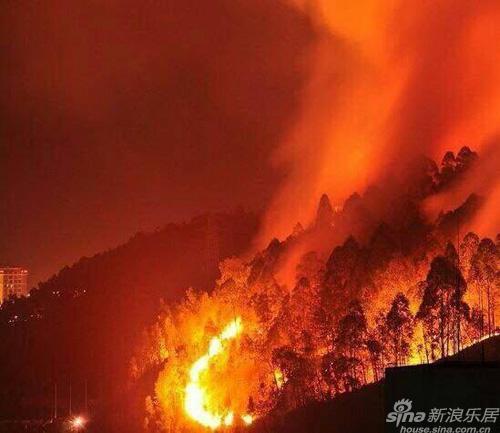fire: (155, 302, 284, 426), (350, 308, 476, 361)
